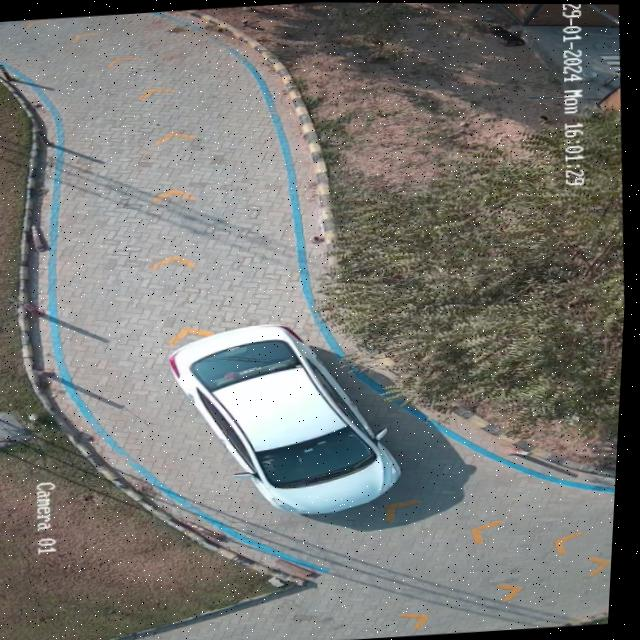car: (173, 325, 405, 513)
